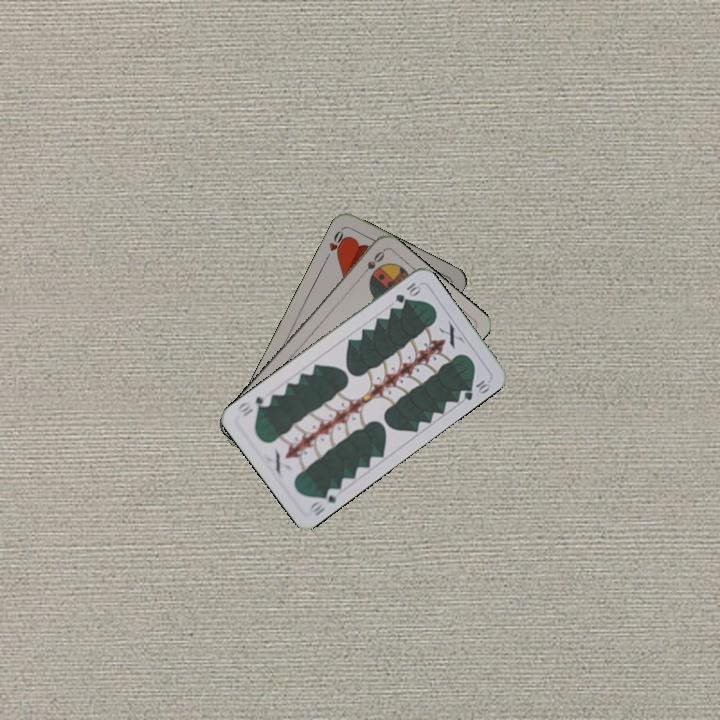G10: (306, 483, 343, 519), (391, 278, 423, 306)
HO: (321, 225, 349, 263)
SO: (356, 247, 387, 280)
